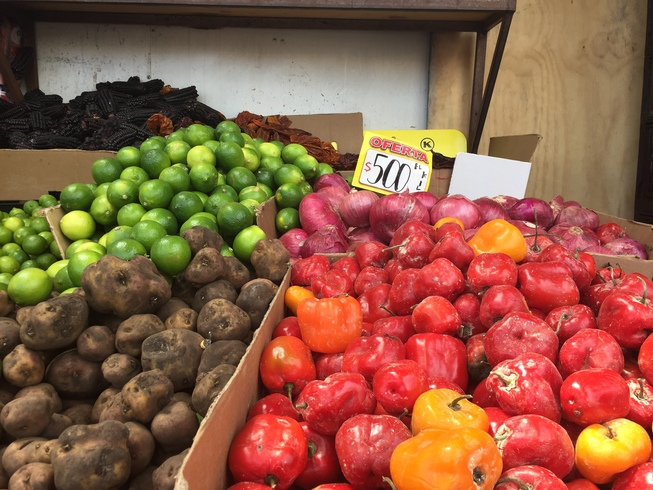precio: (349, 128, 440, 213)
